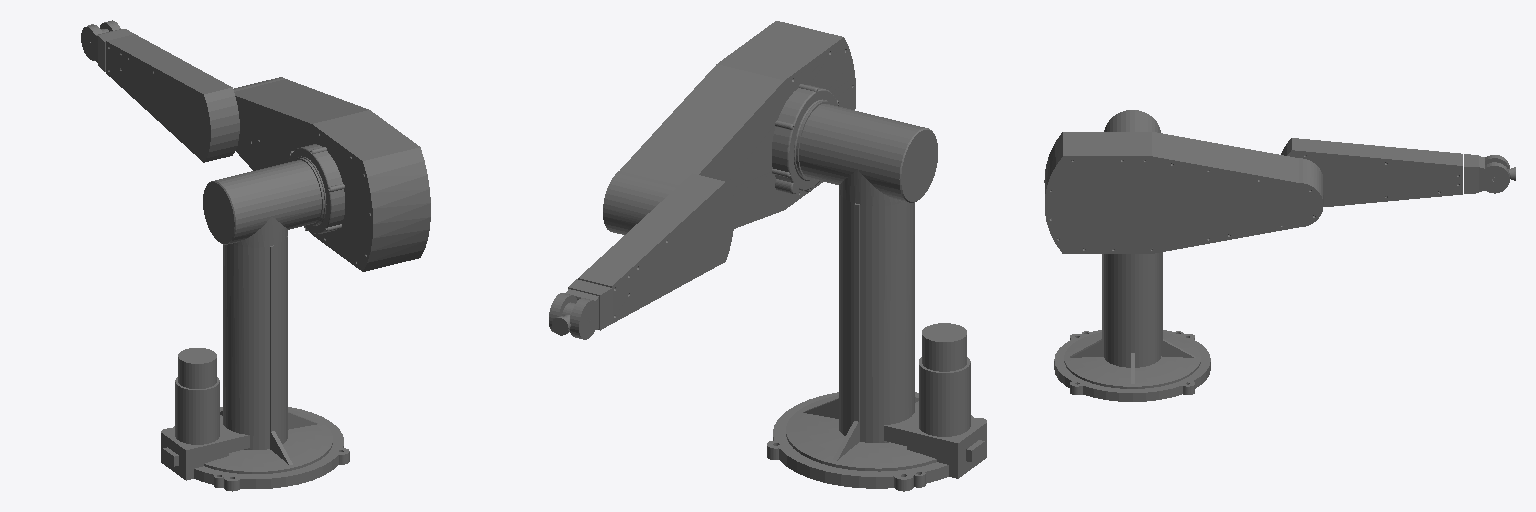
URDF robot description (puma):
<?xml version="1.0"?>
<robot name="puma" xmlns:xacro="http://www.ros.org/wiki/xacro">
  <!-- Robot based on https://grabcad.com/library/robot-puma-560 -->
  <!-- FIXED to follow the IK from modern robotics textbook -->
  <!-- INFO Wrist joints 4, 5, and 6 are YXY different from ZYX from the book -->
  
  <!-- a1 0.623 -->
  <!-- d1 0.14 -->
  <!-- a2 0.45 -->
  <!-- a3 0.49 -->
  <!-- a4 0.05 wrist to end-effector not used here -->

  <link name="map">
        <visual>
      <geometry>
        <mesh filename="package://puma_description/meshes/base.stl" scale="1 1 1"/>
      </geometry>
      <material name="gray">
        <color rgba="0.5 0.5 0.5 1.0"/>
      </material>
    </visual>
  </link>

  <joint name="map_to_s" type="fixed">
    <parent link="map"/>
    <child link="{s}"/>
    <origin xyz="0 0 0.623" rpy="0 0 0"/>   <!-- a1 0.623 -->
  </joint>

  <link name="{s}">
  </link>
  
  <joint name="joint1" type="revolute">
    <parent link="{s}"/>
    <child link="{1}"/>
    <origin xyz="0 0 0" rpy="0 0 0"/>
    <axis xyz="0 0 1"/>
    <limit effort="100.0" velocity="2.0" lower="-3.14" upper="3.14"/>
  </joint>

  <link name="{1}">
    <visual>
      <geometry>
        <mesh filename="package://puma_description/meshes/link1.stl" scale="1 1 1"/>
      </geometry>
      <material name="gray">
        <color rgba="0.5 0.5 0.5 1.0"/>
      </material>
    </visual>
  </link>

  <joint name="joint2" type="revolute">
    <parent link="{1}"/>
    <child link="{2}"/>
    <origin xyz="0.14 0 0" rpy="0 1.57 0"/> <!-- d1 0.14 -->
    <axis xyz="0 0 1"/>
    <limit effort="100.0" velocity="2.0" lower="-3.14" upper="3.14"/>
  </joint>

  <link name="{2}">
    <visual>
      <geometry>
        <mesh filename="package://puma_description/meshes/link2.stl" scale="1 1 1"/>
      </geometry>
      <material name="gray">
        <color rgba="0.5 0.5 0.5 1.0"/>
      </material>
    </visual>
  </link>

  <joint name="joint3" type="revolute">
    <parent link="{2}"/>
    <child link="{3}"/>
    <origin xyz="0 0.45 0" rpy="0 0 0"/> <!-- a2 0.45 -->
    <axis xyz="0 0 1"/>
    <limit effort="100.0" velocity="2.0" lower="-3.14" upper="3.14"/>
  </joint>
   
  <link name="{3}">
    <visual>
      <geometry>
        <mesh filename="package://puma_description/meshes/link3.stl" scale="1 1 1"/>
      </geometry>
      <material name="gray">
        <color rgba="0.5 0.5 0.5 1.0"/>
      </material>
    </visual>
  </link>

  <joint name="joint4" type="revolute">
    <parent link="{3}"/>
    <child link="{4}"/>
    <origin xyz="0 0.49 0" rpy="-1.57 0 0"/> <!-- a3 0.49 -->
    <axis xyz="0 0 1"/>
    <limit effort="100.0" velocity="2.0" lower="-3.14" upper="3.14"/>
  </joint>

  <link name="{4}">
    <visual>
      <geometry>
        <mesh filename="package://puma_description/meshes/link4.stl" scale="1 1 1"/>
      </geometry>
      <material name="gray">
        <color rgba="0.5 0.5 0.5 1.0"/>
      </material>
    </visual>
  </link>

  <joint name="joint5" type="revolute">
    <parent link="{4}"/>
    <child link="{5}"/>
    <origin xyz="0 0 0" rpy="1.57 0 0"/>
    <axis xyz="0 0 1"/>
    <limit effort="100.0" velocity="2.0" lower="-3.14" upper="3.14"/>
  </joint>

  <link name="{5}">
    <visual>
      <geometry>
        <mesh filename="package://puma_description/meshes/link5.stl" scale="1 1 1"/>
      </geometry>
      <material name="gray">
        <color rgba="0.5 0.5 0.5 1.0"/>
      </material>
    </visual>
  </link>

  <joint name="joint6" type="revolute">
    <parent link="{5}"/>
    <child link="{6}"/>
    <origin xyz="0 0 0" rpy="-1.57 0 0"/>
    <axis xyz="0 0 1"/>
    <limit effort="100.0" velocity="2.0" lower="-3.14" upper="3.14"/>
  </joint> 

  <link name="{6}"/>
  
  <joint name="jointb" type="fixed">
    <parent link="{6}"/>
    <child link="{b}"/>
    <origin xyz="0 0 0" rpy="1.57 0 -1.57"/>
    <axis xyz="0 0 1"/>
  </joint> 
  
  <link name="{b}"/>
</robot>

--- What the picture shows (computed from the rendered views, not written in the file) ---
Views: 3 orthographic renders of the robot side by side, from view 1: azimuth 30°, elevation 25°; view 2: azimuth 150°, elevation 25°; view 3: azimuth 270°, elevation 25°.
Robot: puma — 9 links, 8 joints (6 revolute, 2 fixed); root link map; default pose: all joints at 0.
Visible links, largest first — view 1: map, {2}, {3}, {1}, {4}; view 2: map, {2}, {3}, {1}, {4}; view 3: {2}, map, {3}, {4}, {1}.
Link boxes in pixels (x1,y1,x2,y2): map: (161, 236, 349, 491); {2}: (233, 77, 430, 271); {3}: (106, 34, 239, 162); {1}: (203, 156, 326, 247); {4}: (81, 20, 133, 71); map: (767, 193, 986, 491); {2}: (603, 21, 855, 234); {3}: (578, 173, 733, 322); {1}: (794, 99, 937, 205); {4}: (549, 279, 612, 339); {2}: (1044, 132, 1323, 253); map: (1054, 252, 1210, 401); {3}: (1281, 138, 1462, 206); {4}: (1464, 154, 1509, 193); {1}: (1104, 110, 1160, 132).
Size in the robot's own frame: 0.5598 by 1.22 by 0.7629 metres.
6 mesh visuals loaded from 6 distinct referenced files (6 ASCII STL).
